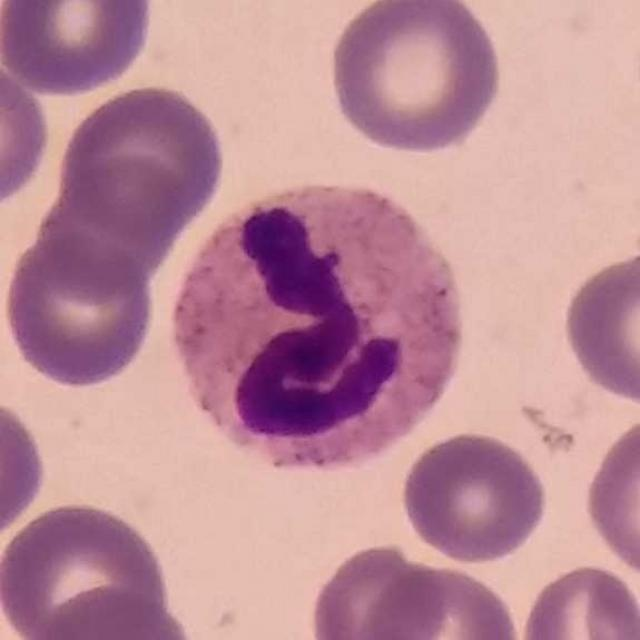Neutrophil: (164, 167, 492, 499)
RBC: (323, 0, 506, 157), (54, 80, 230, 237), (0, 228, 160, 392), (0, 495, 175, 640), (396, 426, 552, 566), (37, 150, 189, 280), (0, 0, 159, 98), (305, 540, 449, 640), (556, 245, 640, 411), (360, 560, 526, 640), (580, 410, 640, 584), (515, 560, 640, 640), (23, 585, 198, 640), (0, 52, 55, 216), (0, 392, 50, 550)
